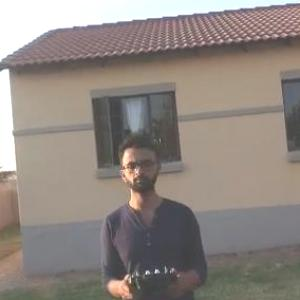follow: (88, 130, 207, 299)
